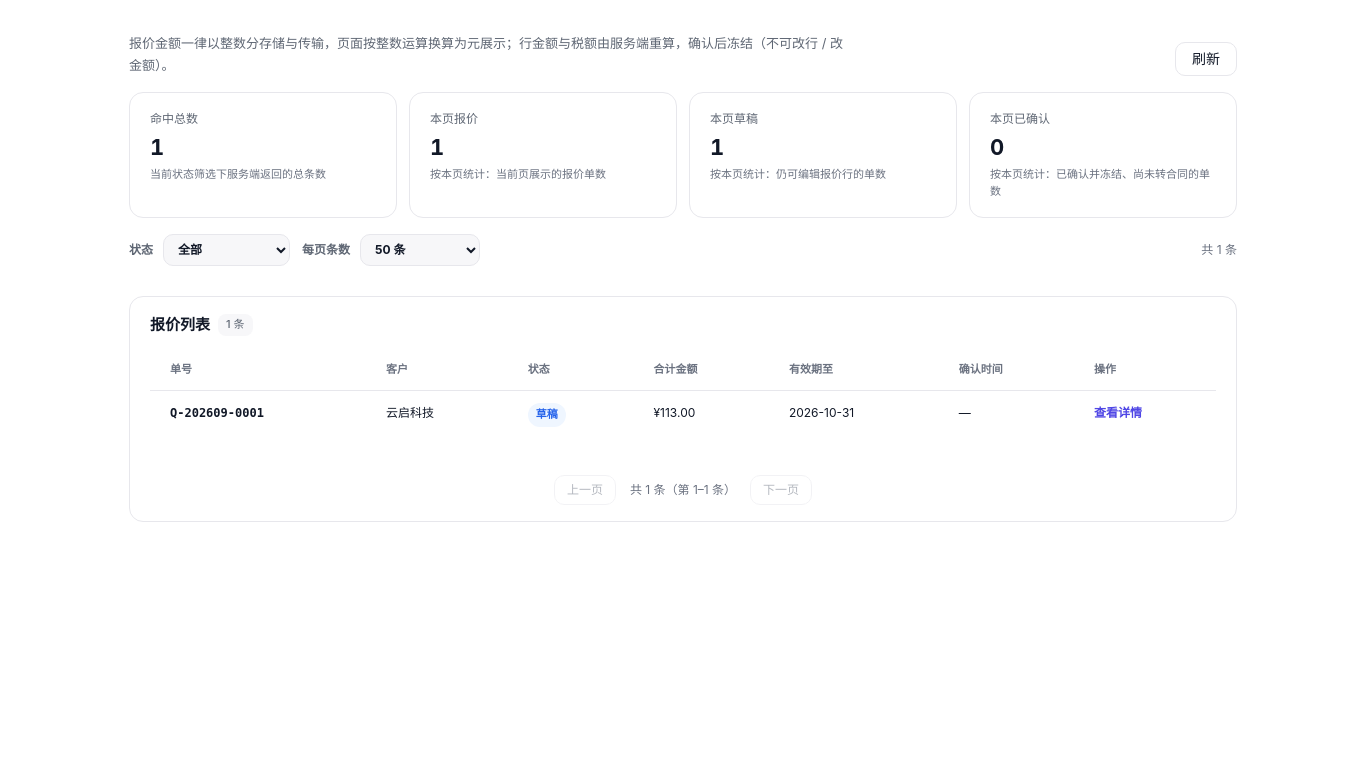
it: CrmQuotesPage › edits draft lines and submits integer cents computed from the yuan input
Click the button "查看详情" at (1118, 413), box [1094,403,1142,422]
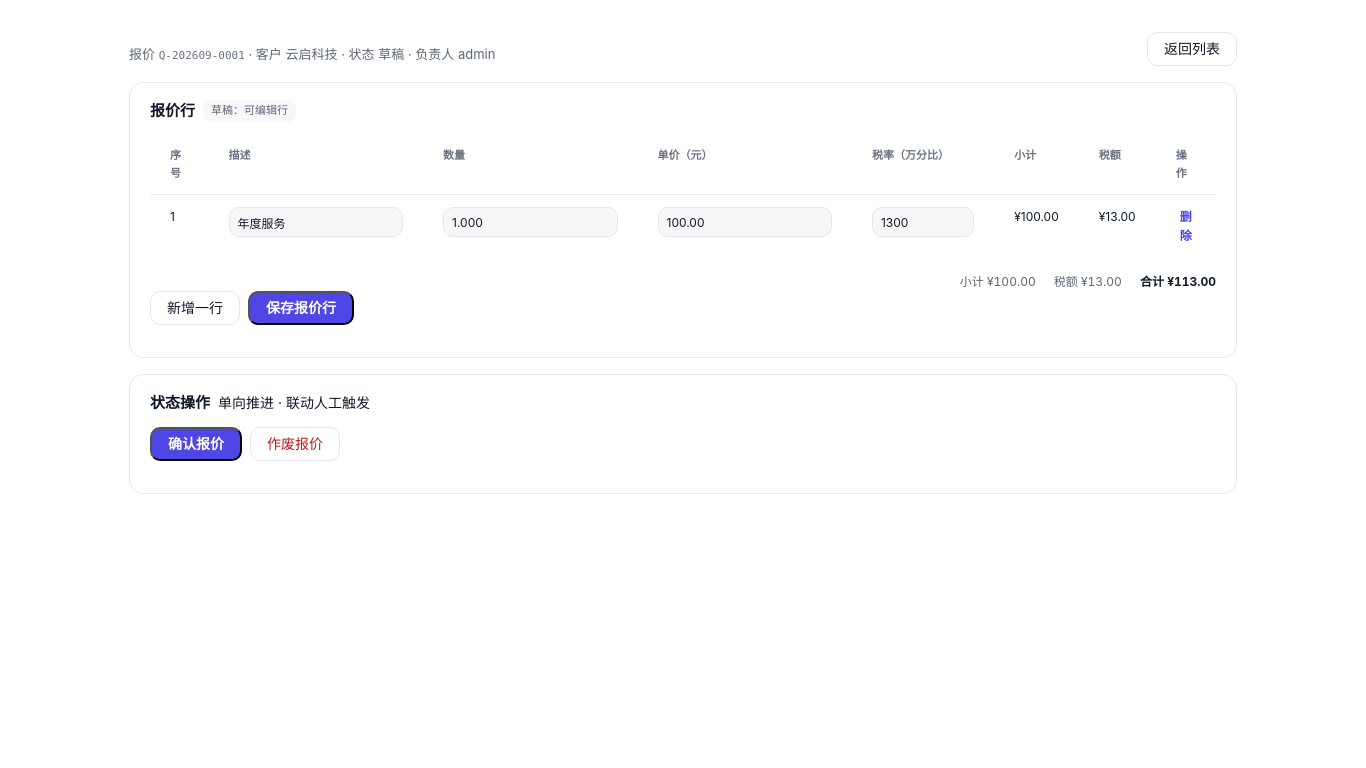
Replace the text in the field named "第 1 行单价" with "12.34" at (745, 222), box [658,207,832,237]
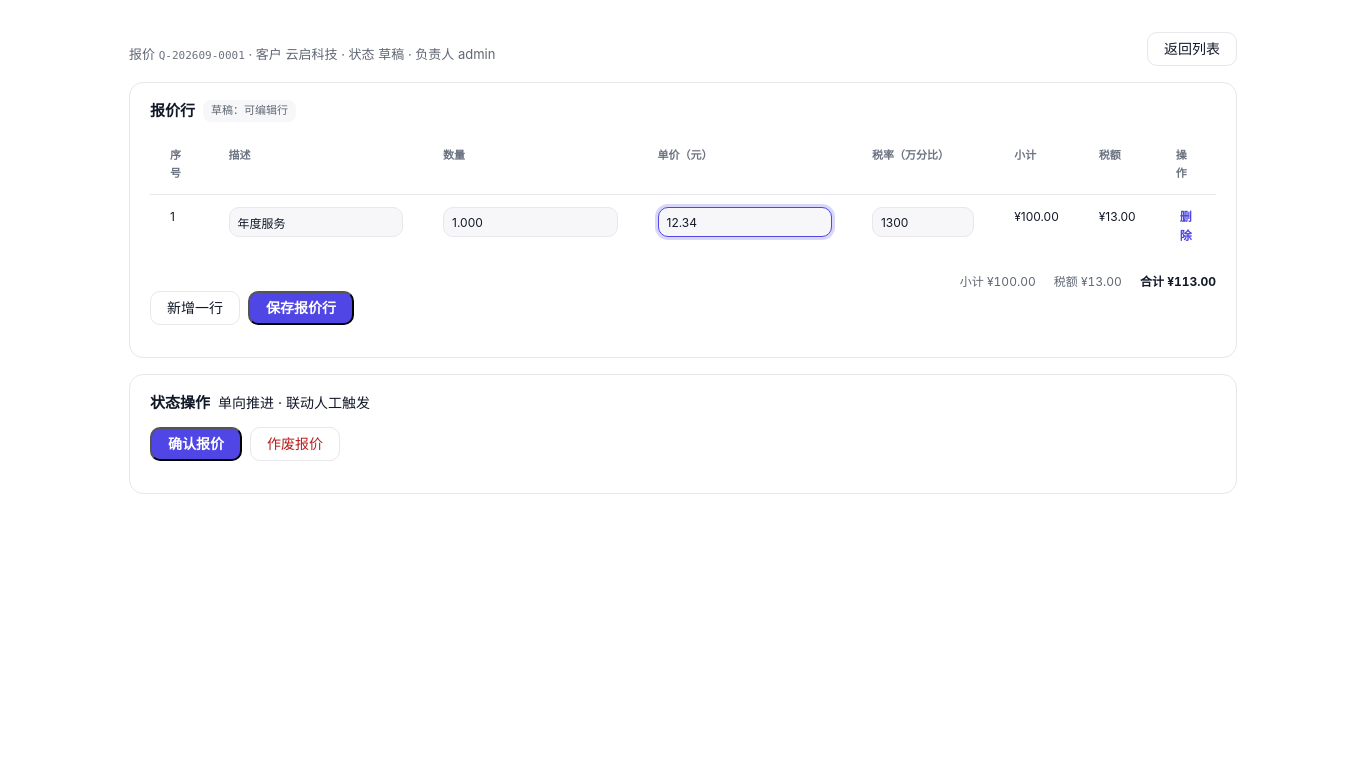
Click the button "保存报价行" at (301, 308), box [248,291,354,325]
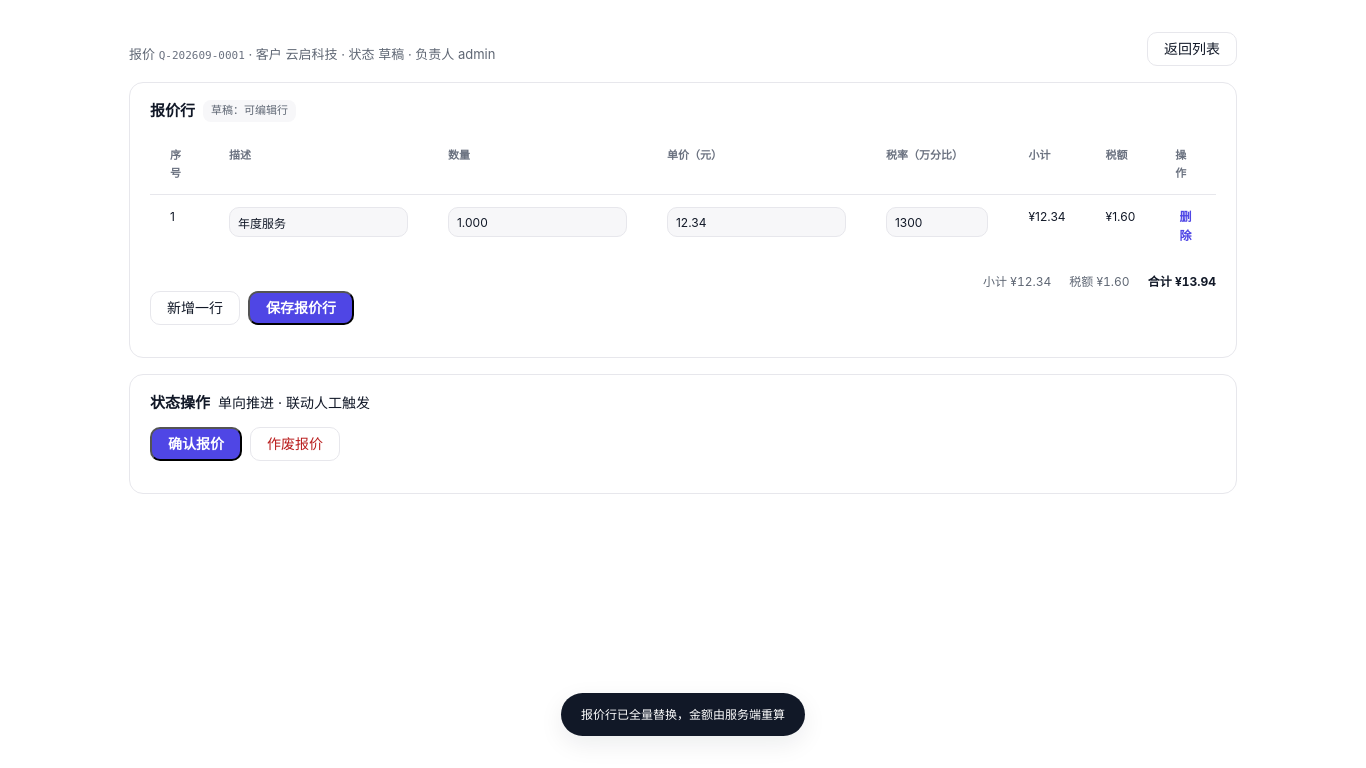
expect the text "报价行已全量替换，金额由服务端重算" is shown: met, box [581,705,785,724]
expect the text "合计 ¥13.94" is shown: met, box [1148,272,1216,291]
